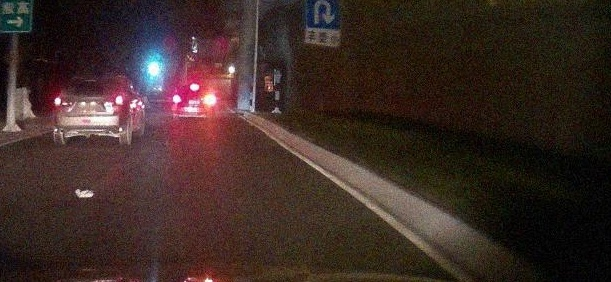L_light: (173, 94, 182, 103), (54, 97, 62, 106)
R_light: (203, 94, 216, 105), (115, 95, 124, 106)
T_light: (190, 83, 199, 92), (84, 79, 97, 82)
night-no: (53, 75, 127, 145)
night-right: (172, 83, 216, 121)
